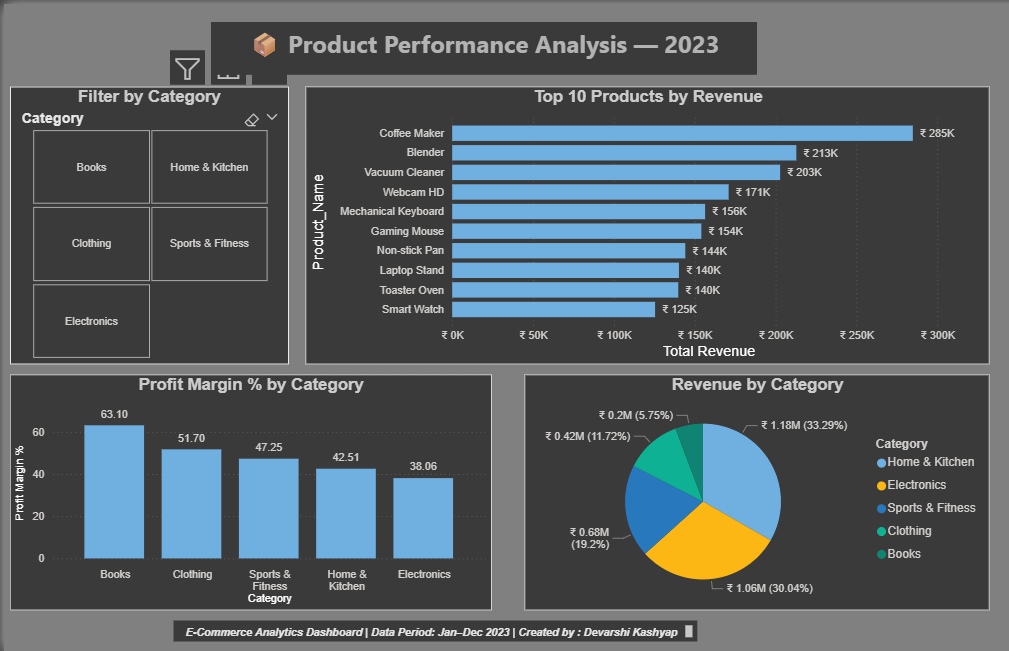

Layout of this report page (visuals, bound fields, positions):
{"tool":"powerbi","page":{"name":"Product Analysis","canvas":[1280,720],"ordinal":1},"visuals":[{"type":"clusteredBarChart","title":"Top 10 Products by Revenue","fields":{"Category":["Sales_data.Product_Name"],"Y":["_Measures.Total Revenue"]},"box":[335,91.7,760,308.3],"z":0},{"type":"pieChart","title":"Revenue by Category","fields":{"Category":["Sales_data.Category"],"Y":["_Measures.Total Revenue"]},"box":[578.3,411.7,516.7,261.7],"z":1},{"type":"clusteredColumnChart","title":"Profit Margin % by Category","fields":{"Category":["Sales_data.Category"],"Y":["_Measures.Profit Margin %"]},"box":[6.7,411.7,535,261.7],"z":2},{"type":"slicer","title":"Filter by Category","fields":{"Values":["Sales_data.Category"]},"box":[6.7,91.7,310,308.3],"z":3},{"type":"textbox","box":[230,20,606.7,58.3],"z":4},{"type":"textbox","box":[188.3,685,581.7,23.3],"z":5},{"type":"slicer","title":"Filter by Month","fields":{"Values":["Date_Table.Month Name"]},"box":[10,226.7,226.7,458.3],"z":6}]}

Visuals, with their boxes on the page's 1280x720 design canvas (x1, y1, x2, y2). These are canvas units, not pixel positions in the 1009x651 screenshot, which may show the page scaled, cropped or inside an application window:
"Top 10 Products by Revenue" clusteredBarChart: 335:92:1095:400
"Revenue by Category" pieChart: 578:412:1095:673
"Profit Margin % by Category" clusteredColumnChart: 7:412:542:673
"Filter by Category" slicer: 7:92:317:400
textbox: 230:20:837:78
textbox: 188:685:770:708
"Filter by Month" slicer: 10:227:237:685
